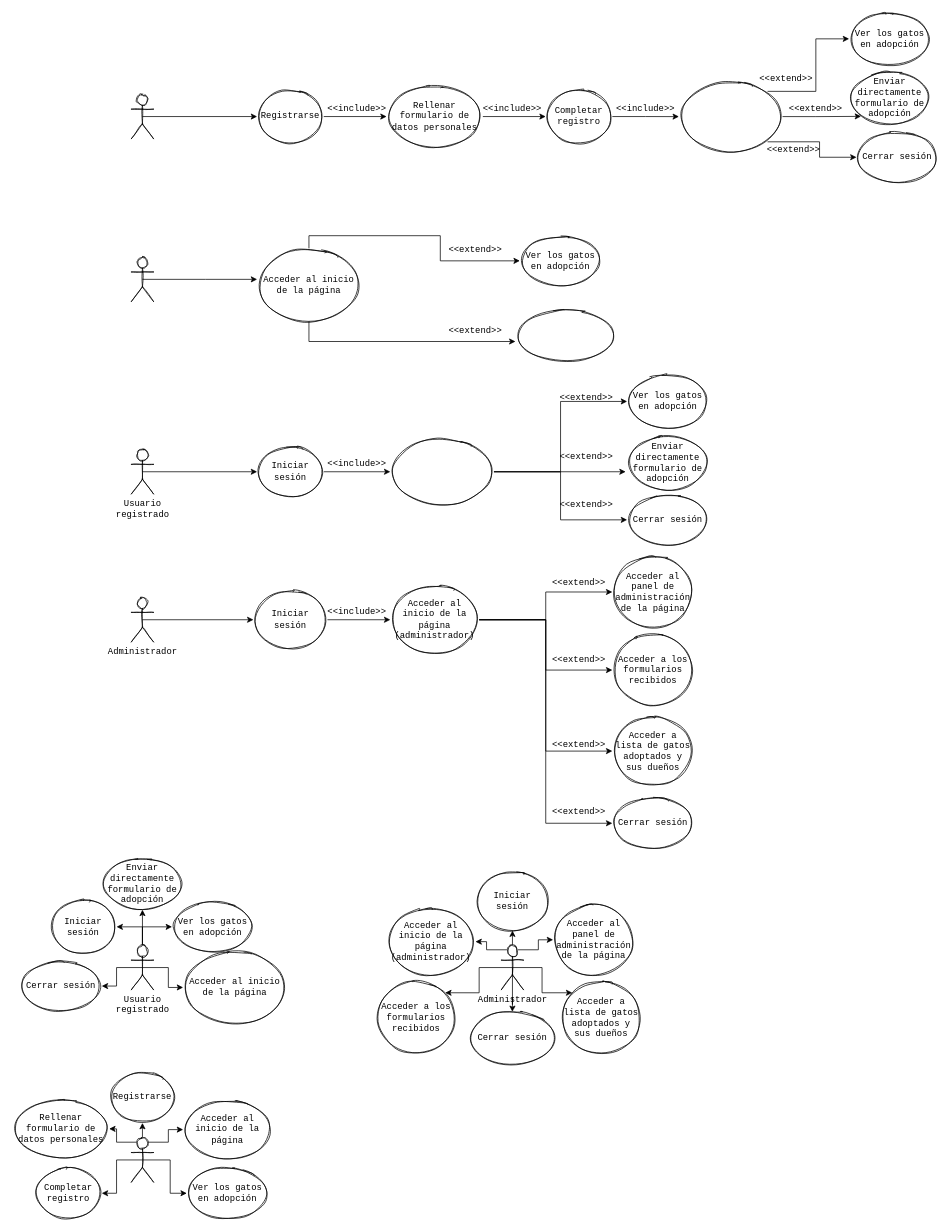
This 951x1232 diagram has some shape labels left out. Each missing label, with the centre of its shape:
"Acceder al inicio de la página (usuario normal)" goes at [442,471].
"Acceder al inicio de la página como usuario registrado" goes at [730,116].
"Rellenar formulario de adopcion con datos personales" goes at [565,335].
"Usuario no registrado" goes at [142,1159].
"Usuario no registrado (AL ENTRAR EN LA PÁGINA)" goes at [142,279].
"Usuario no registrado (AL REGISTRARSE)" goes at [142,116].
